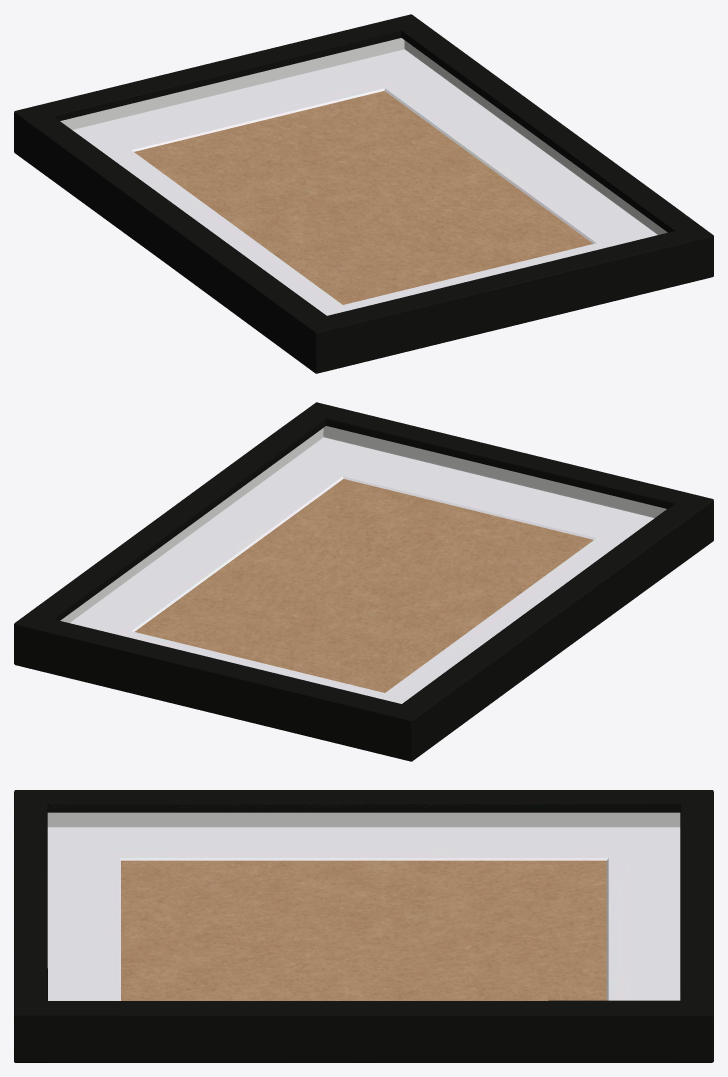
The picture shows the model from 3 angles, top to bottom: view 1: azimuth 30°, elevation 25°; view 2: azimuth 150°, elevation 25°; view 3: azimuth 270°, elevation 25°; orthographic projection. The views are drawn at different scales.
Visible parts, largest first — view 1: ASY_ART_20548918_S01_NV01; view 2: ASY_ART_20548918_S01_NV01; view 3: ASY_ART_20548918_S01_NV01.
Part boxes in pixels (x1,y1,x2,y2): ASY_ART_20548918_S01_NV01: (14, 14, 713, 373); ASY_ART_20548918_S01_NV01: (14, 402, 713, 761); ASY_ART_20548918_S01_NV01: (14, 790, 713, 1062).
Size of the model in its own units: 0.318 by 0.032 by 0.418.
Materials: 2 (2 with a texture image).
